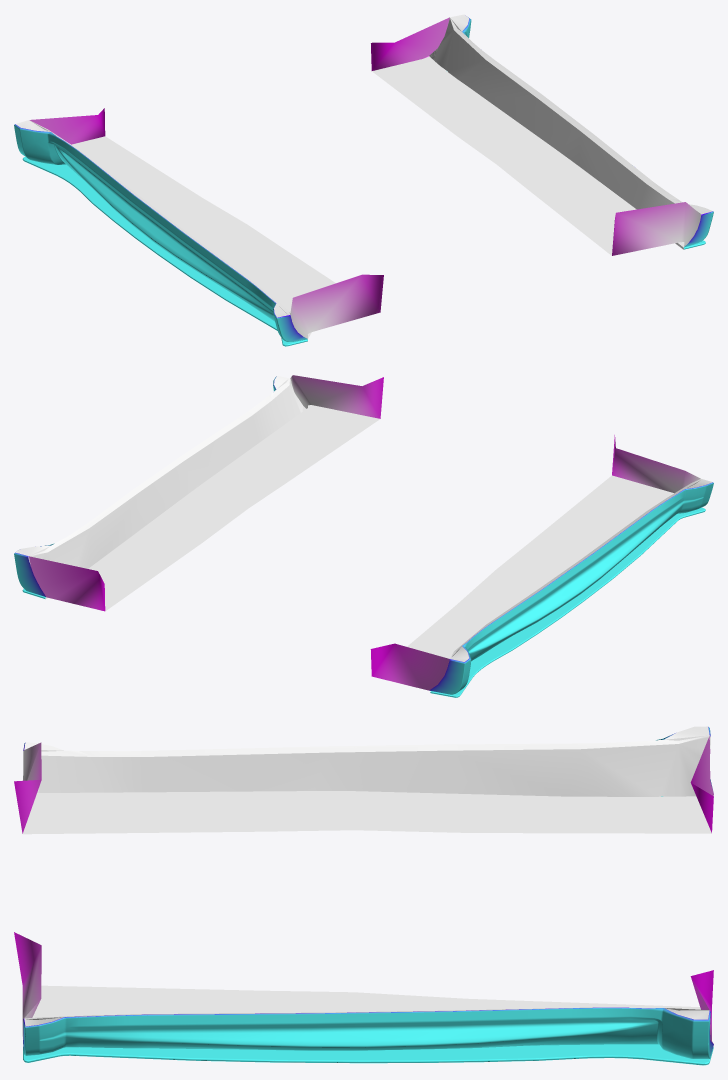
Rendered from Car_Mini_CountrymanJCW_2017_Skirts_SetD_AltC.fbx.
3 views of the same model, one above another, from view 1: azimuth 30°, elevation 25°; view 2: azimuth 150°, elevation 25°; view 3: azimuth 270°, elevation 25° (orthographic). The views are drawn at different scales.
Visible parts, largest first — view 1: Skirts 6; view 2: Skirts 6; view 3: Skirts 6.
Boxes of the visible parts, x1,y1,x2,y2 form: Skirts 6: [14, 14, 713, 346]; Skirts 6: [14, 375, 713, 697]; Skirts 6: [14, 726, 713, 1065].
Bounding box in the file's own units: 1.89 × 0.2059 × 1.9.
